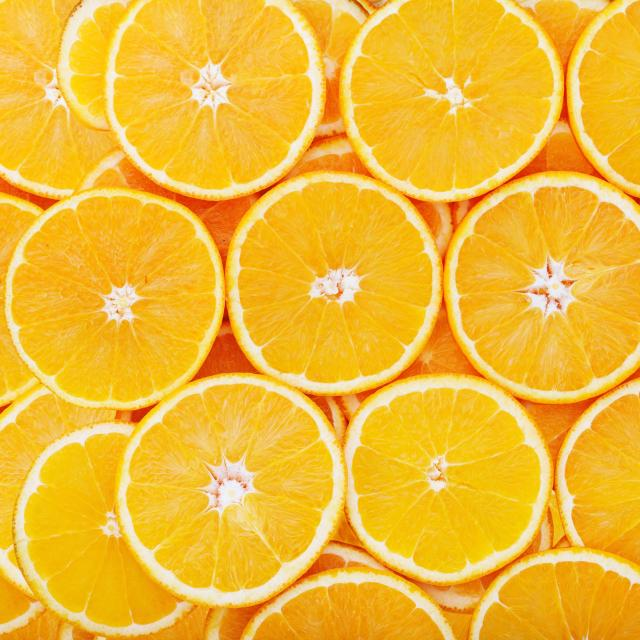lemon: (220, 166, 448, 400), (0, 183, 232, 412)
